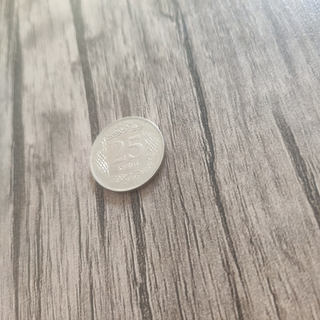25KURUS: (87, 115, 165, 193)
